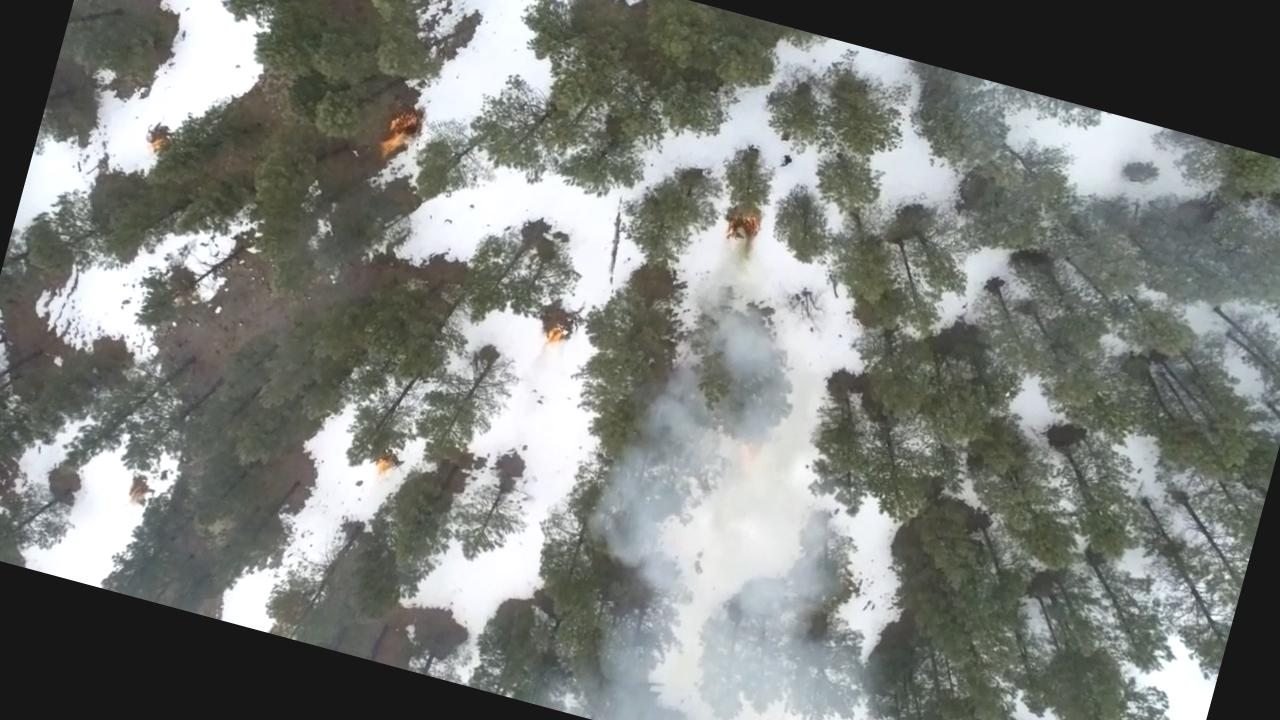fire: (373, 108, 426, 170), (716, 205, 770, 262), (539, 318, 578, 360), (368, 453, 402, 484)
smoke: (540, 480, 932, 720), (615, 307, 859, 534)
